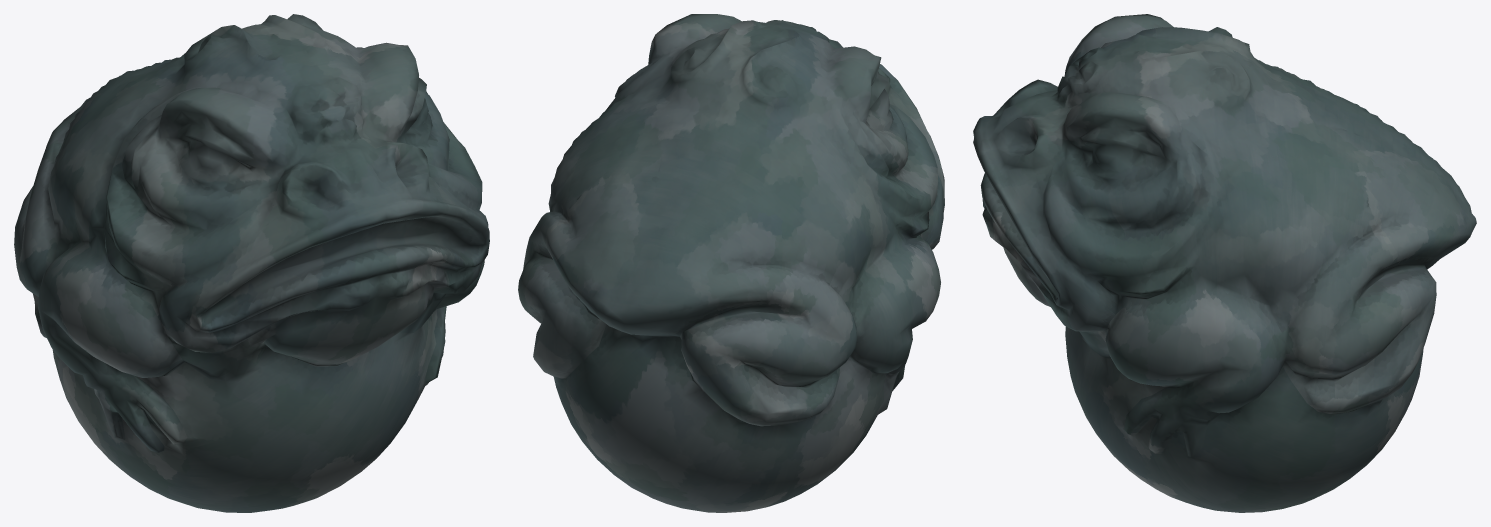
Rendered from JadeToad.gltf.
The picture shows the model from 3 angles, left to right: view 1: azimuth 30°, elevation 25°; view 2: azimuth 150°, elevation 25°; view 3: azimuth 270°, elevation 25°; orthographic projection. The views are drawn at different scales.
Parts seen in each view (by area): view 1: Toad; view 2: Toad; view 3: Toad.
Part boxes in pixels (left/top/right/bottom): Toad: left=14, top=14, right=489, bottom=512; Toad: left=518, top=14, right=944, bottom=512; Toad: left=973, top=14, right=1476, bottom=512.
Bounding box in the file's own units: 3.53 × 4.06 × 4.07.
1 material, 1 textured.
